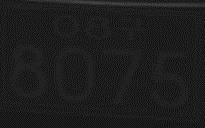0: (53, 46, 94, 102), (53, 13, 79, 40)
5: (149, 49, 190, 109)
7: (100, 47, 143, 106)
8: (8, 44, 48, 97), (82, 15, 110, 41)
구: (118, 14, 146, 41)
